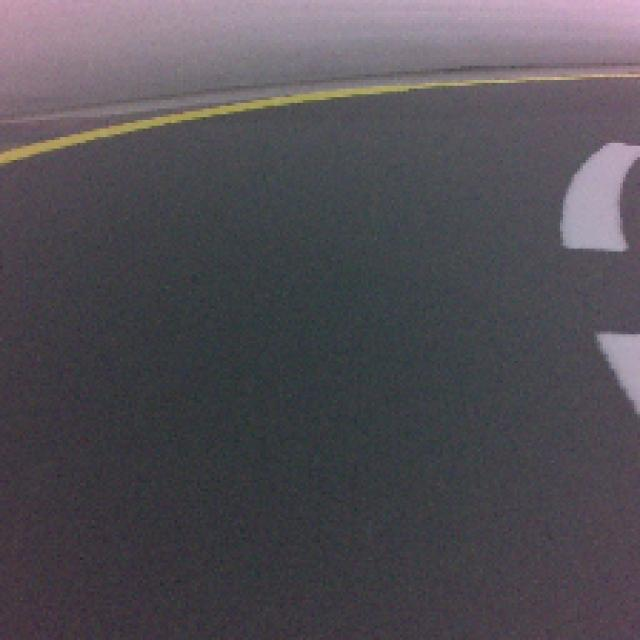Road: (0, 312, 640, 640)
